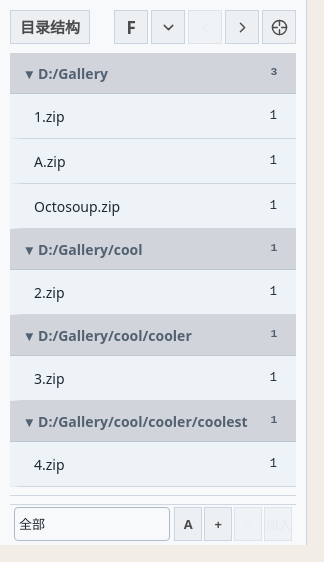
Test: SidebarPanel image collapse interactions › 折叠指针节点时仅隐藏直属媒体，保留下级指针与其内容
Expected: the text named "节点 3" is shown, [270,66,277,78]
Expected: the button "1.zip 1" is shown, [22,94,296,138]
Double-click the button "▾ D:/Gallery 3" at (73, 73), box [10,53,296,93]
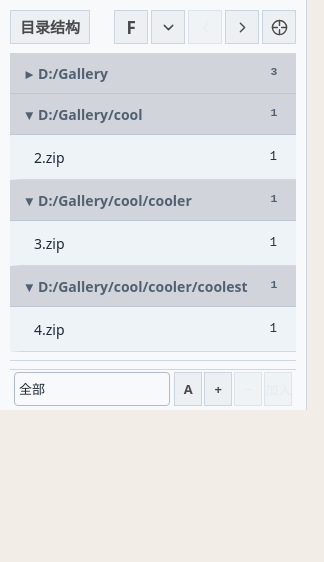
Result: the button "1.zip" is gone
Result: the button "A.zip" is gone
Result: the button "Octosoup.zip" is gone
Double-click the button "▾ D:/Gallery/cool 1" at (90, 114), box [10,94,296,134]
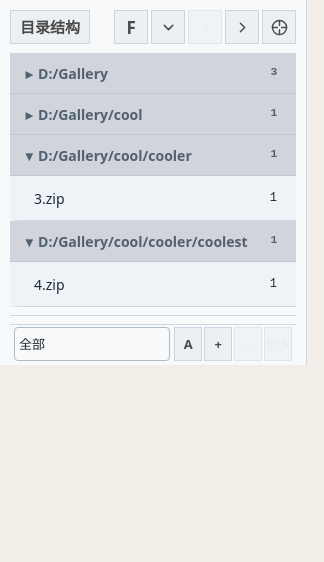
Expected: the button "▾ D:/Gallery/cool/cooler 1" is shown, [10,135,296,175]
Result: the button "2.zip" is gone
